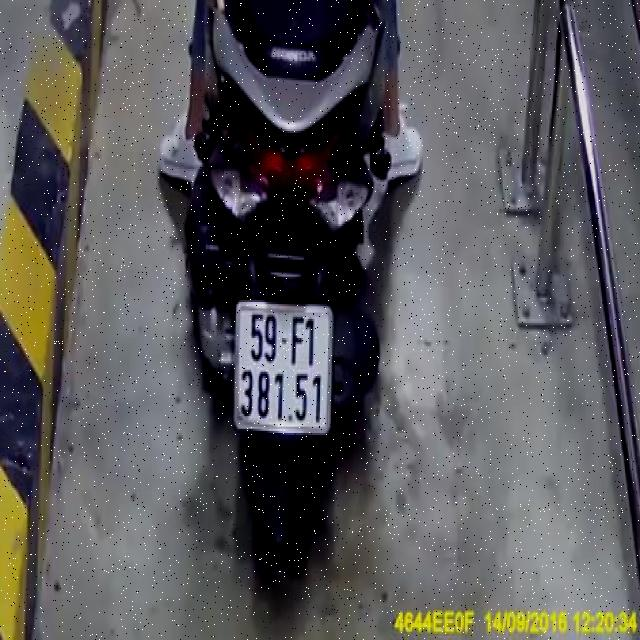1: (312, 370, 325, 424), (274, 368, 286, 423), (304, 314, 316, 367)
3: (241, 366, 254, 415)
5: (295, 367, 309, 424), (249, 312, 263, 359)
8: (258, 370, 270, 418)
9: (264, 312, 277, 362)
F: (292, 314, 304, 365)
